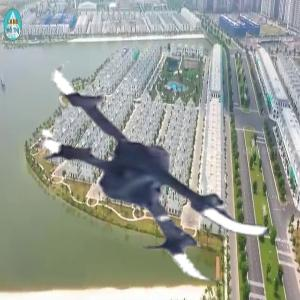drone: (30, 29, 293, 292)
